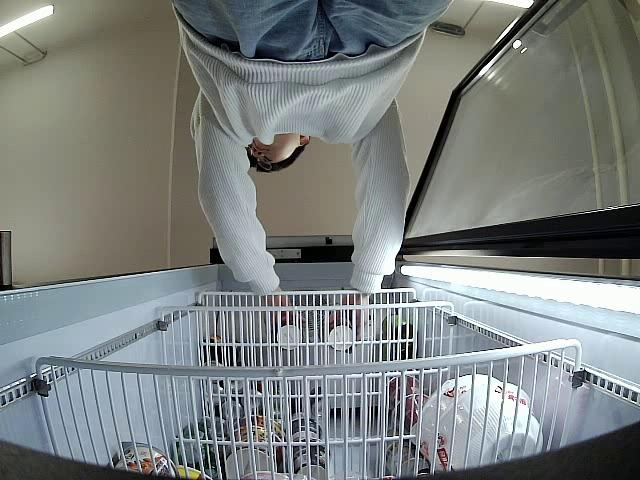00_hand: (329, 296, 365, 341), (270, 299, 304, 333)
02_shinRamen_S: (277, 315, 304, 353), (327, 318, 354, 351)
